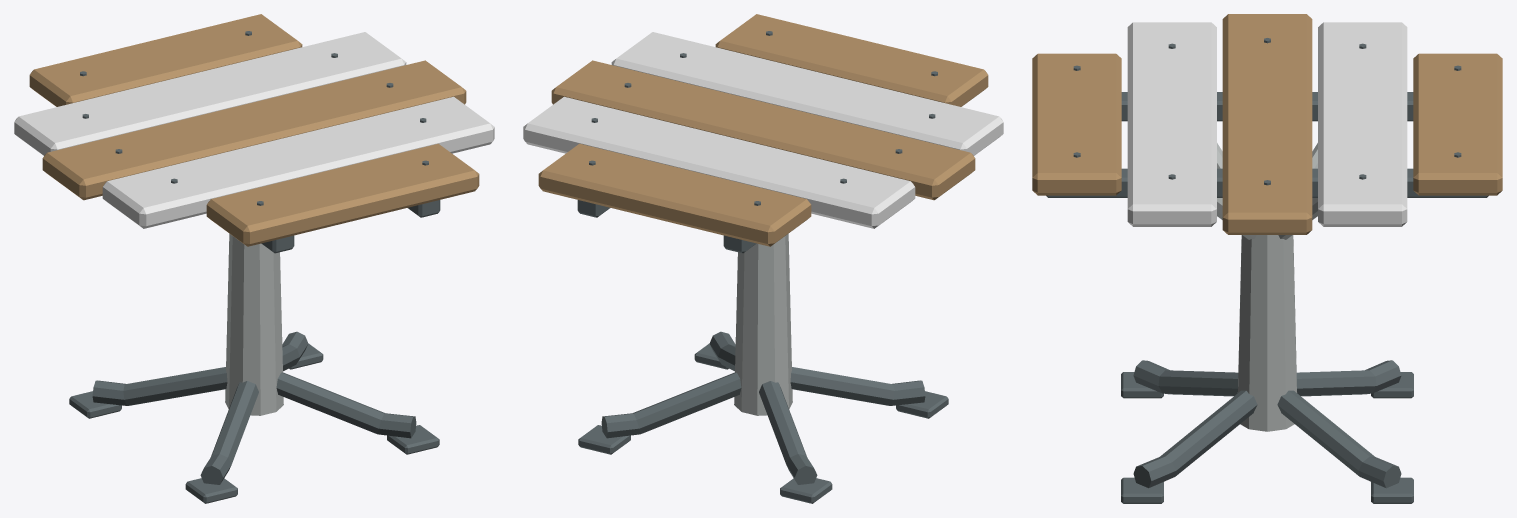
File: Outdoor_Table.fbx
3 renders of one model, left to right at view 1: azimuth 30°, elevation 25°; view 2: azimuth 150°, elevation 25°; view 3: azimuth 270°, elevation 25°, orthographic. The views are drawn at different scales.
Parts seen in each view (by area): view 1: Outdoor_Table__Tabletop_Slats__LPCXFER, Outdoor_Table__LPCXFER; view 2: Outdoor_Table__Tabletop_Slats__LPCXFER, Outdoor_Table__LPCXFER; view 3: Outdoor_Table__Tabletop_Slats__LPCXFER, Outdoor_Table__LPCXFER.
Boxes of the visible parts, left/top/right/bottom form: Outdoor_Table__Tabletop_Slats__LPCXFER: left=14, top=14, right=494, bottom=246; Outdoor_Table__LPCXFER: left=69, top=200, right=440, bottom=503; Outdoor_Table__Tabletop_Slats__LPCXFER: left=523, top=14, right=1003, bottom=246; Outdoor_Table__LPCXFER: left=577, top=200, right=948, bottom=503; Outdoor_Table__Tabletop_Slats__LPCXFER: left=1032, top=14, right=1502, bottom=234; Outdoor_Table__LPCXFER: left=1046, top=92, right=1488, bottom=503.
Size of the model in its own units: 106 by 80.9 by 104.
